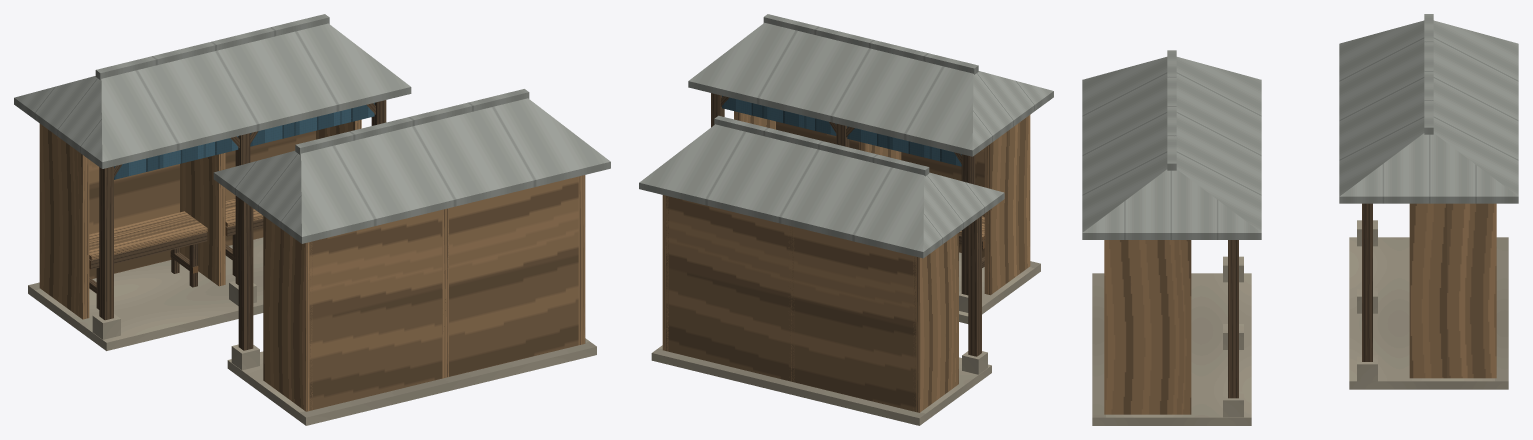
Rendered from serekunda.glb.
The picture shows the model from 3 angles, left to right: view 1: azimuth 30°, elevation 25°; view 2: azimuth 150°, elevation 25°; view 3: azimuth 270°, elevation 25°; orthographic projection. The views are drawn at different scales.
Parts seen in each view (by area): view 1: serekunda; view 2: serekunda; view 3: serekunda.
Boxes of the visible parts, bbox=[...] form: serekunda: bbox=[14, 14, 610, 425]; serekunda: bbox=[639, 14, 1053, 425]; serekunda: bbox=[1082, 14, 1518, 425].
Size of the model in its own units: 3.78 by 2.3 by 3.68.
1 material, 1 textured.
